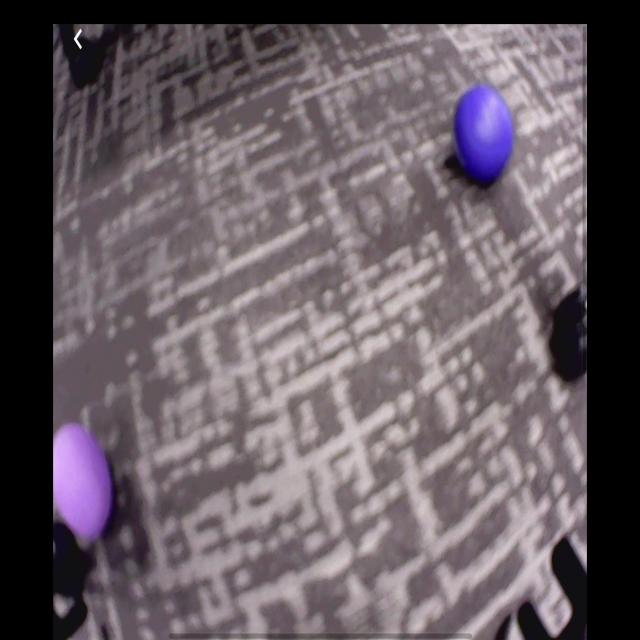ball: (55, 428, 111, 543), (456, 87, 514, 185)
